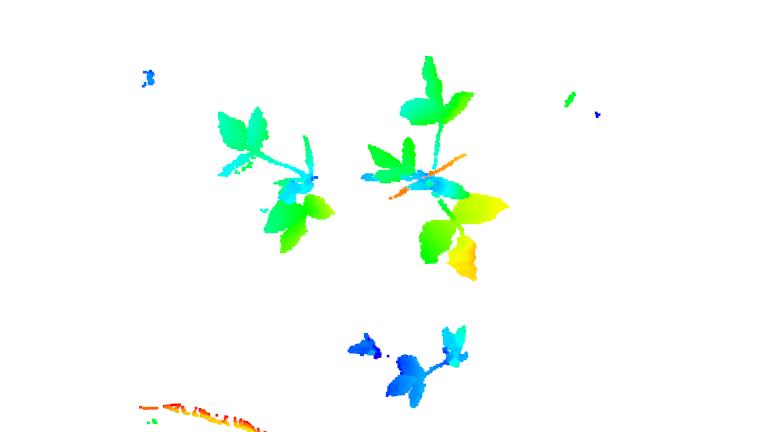mungbean: (358, 54, 513, 284), (212, 105, 340, 254), (346, 322, 476, 412)
